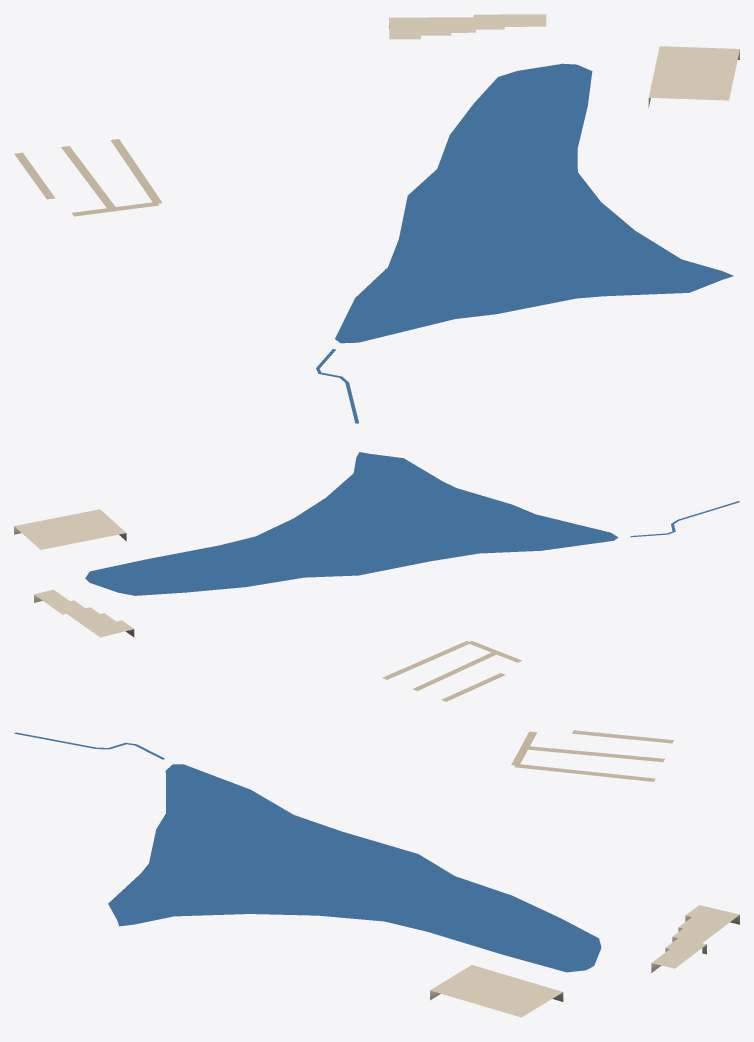
3 views of the same model, one above another, from view 1: azimuth 30°, elevation 25°; view 2: azimuth 150°, elevation 25°; view 3: azimuth 270°, elevation 25° (orthographic). The views are drawn at different scales.
Parts seen in each view (by area): view 1: water, building, ground; view 2: water, building, ground; view 3: water, building, ground.
Boxes of the visible parts, box(x1,y1,x2,y2) form: water: box(316, 63, 733, 423); building: box(389, 14, 739, 107); ground: box(14, 139, 162, 216); water: box(85, 452, 739, 595); building: box(14, 509, 134, 637); ground: box(382, 641, 521, 701); water: box(14, 732, 601, 972); building: box(430, 905, 739, 1017); ground: box(511, 730, 673, 781).
Bounding box in the file's own units: 501 × 8 × 519.
